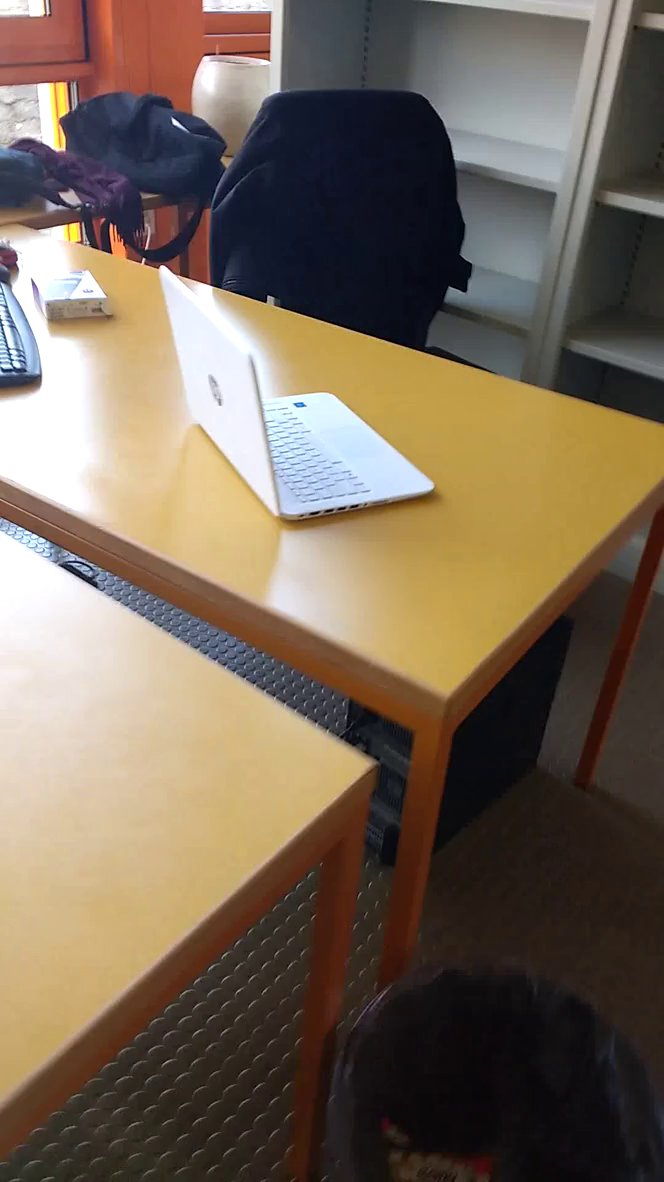bag: (55, 86, 242, 235)
bin: (308, 926, 664, 1182)
chair: (203, 74, 486, 369)
laptop: (154, 253, 444, 530)
